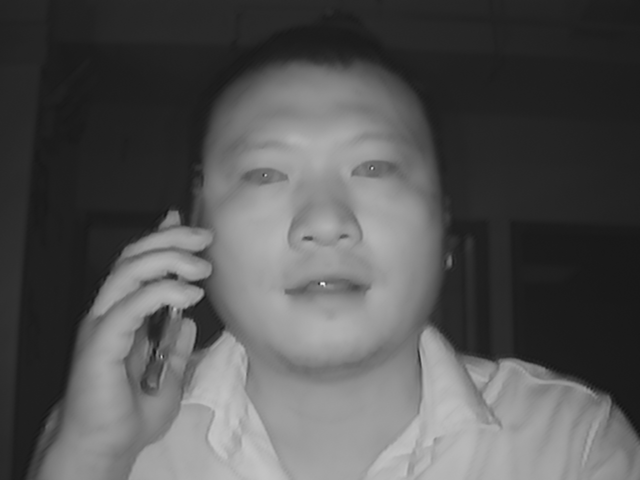hand: (58, 208, 209, 445)
